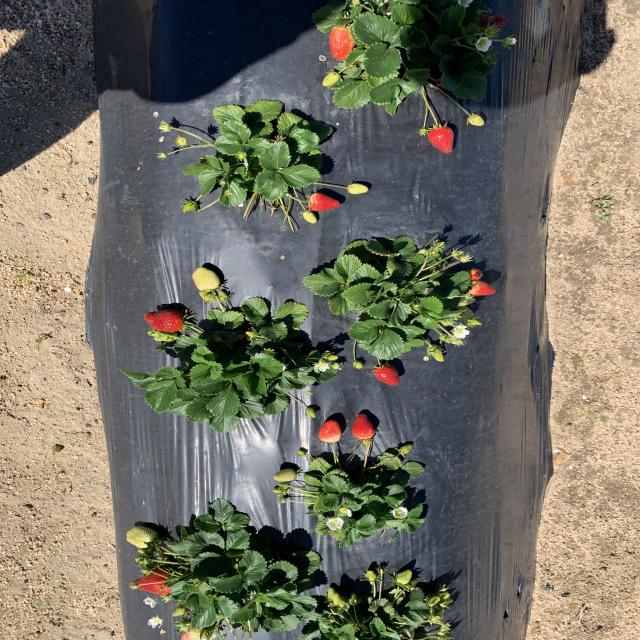unripe: (129, 564, 185, 598), (143, 308, 190, 333), (329, 25, 358, 61), (427, 124, 458, 155), (351, 414, 379, 439), (306, 191, 342, 210), (474, 13, 509, 30), (374, 366, 401, 387), (318, 419, 342, 442), (468, 281, 496, 296), (469, 268, 484, 282)
